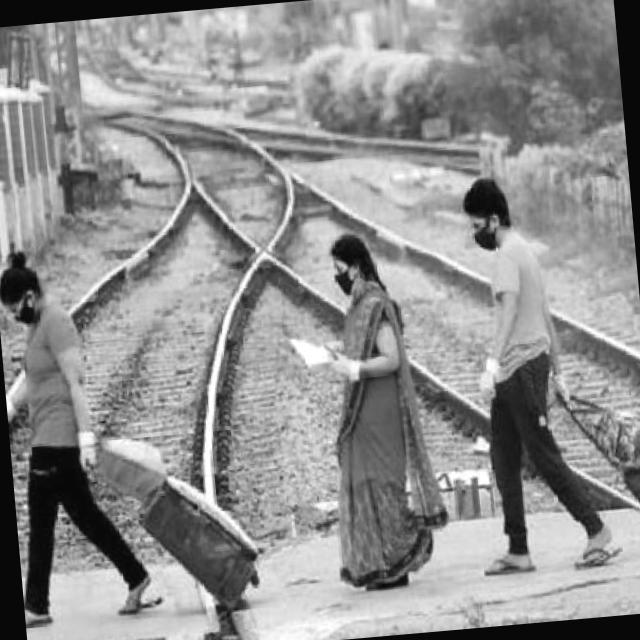Person: (460, 165, 620, 583), (280, 222, 448, 600), (0, 241, 157, 628)
